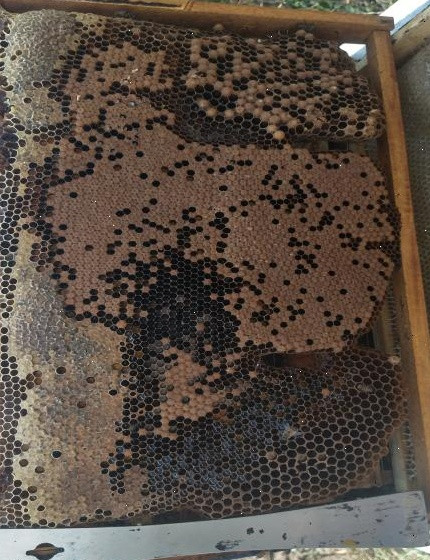cria: (45, 43, 395, 439), (180, 28, 375, 138), (263, 405, 374, 471)
